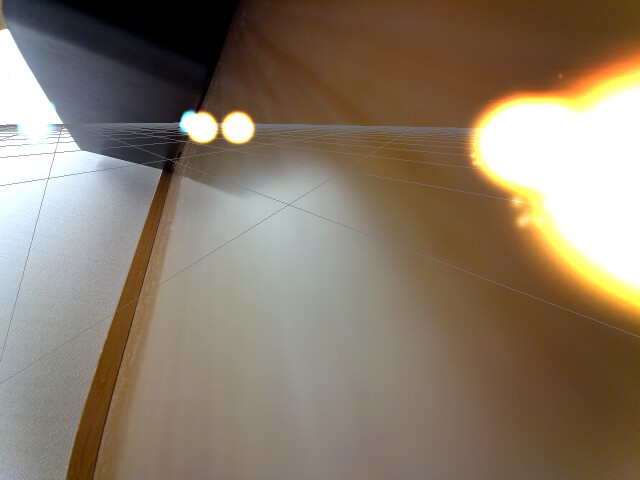firebig: (425, 30, 640, 341)
